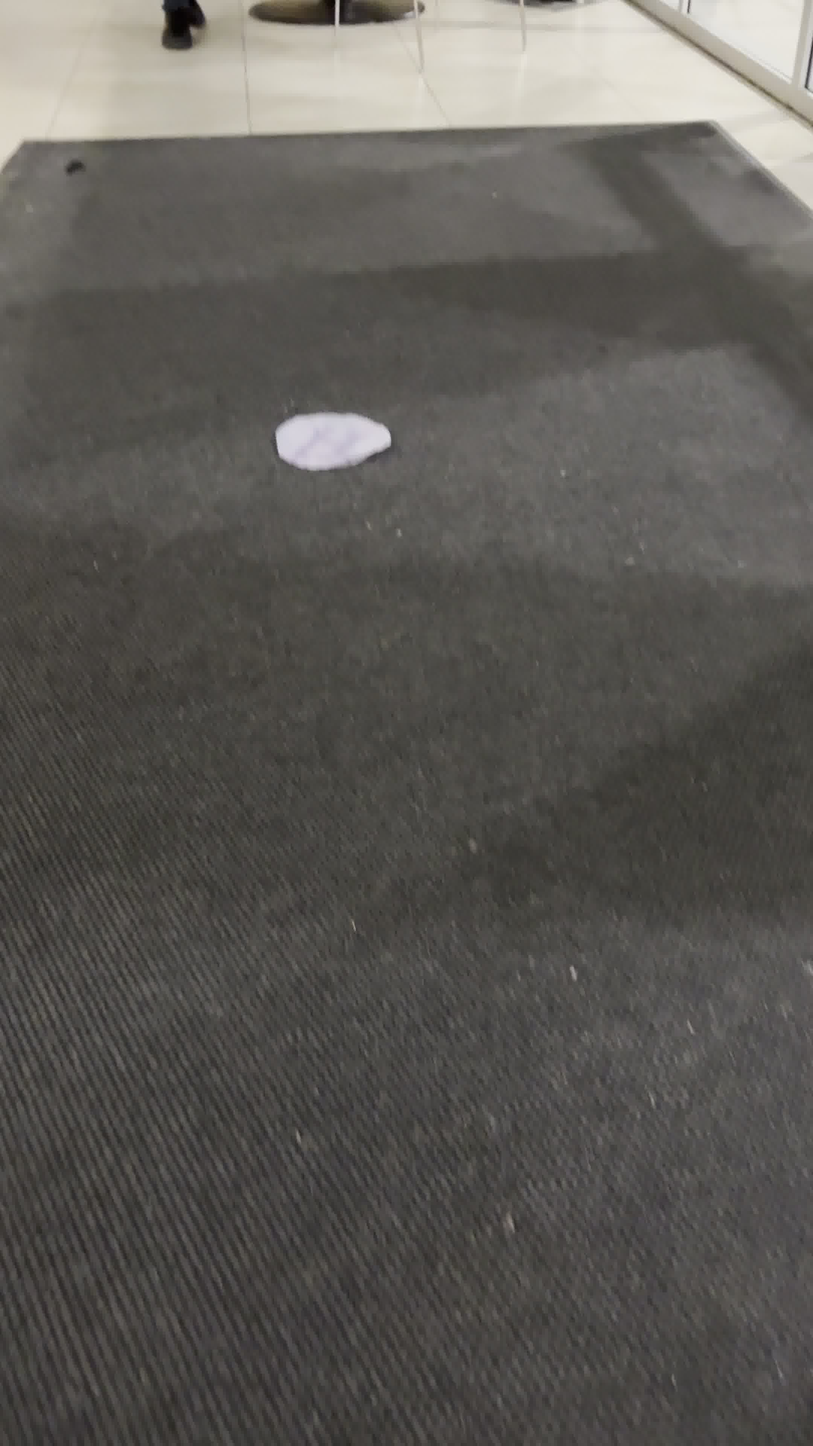Target: (269, 411, 394, 473)
